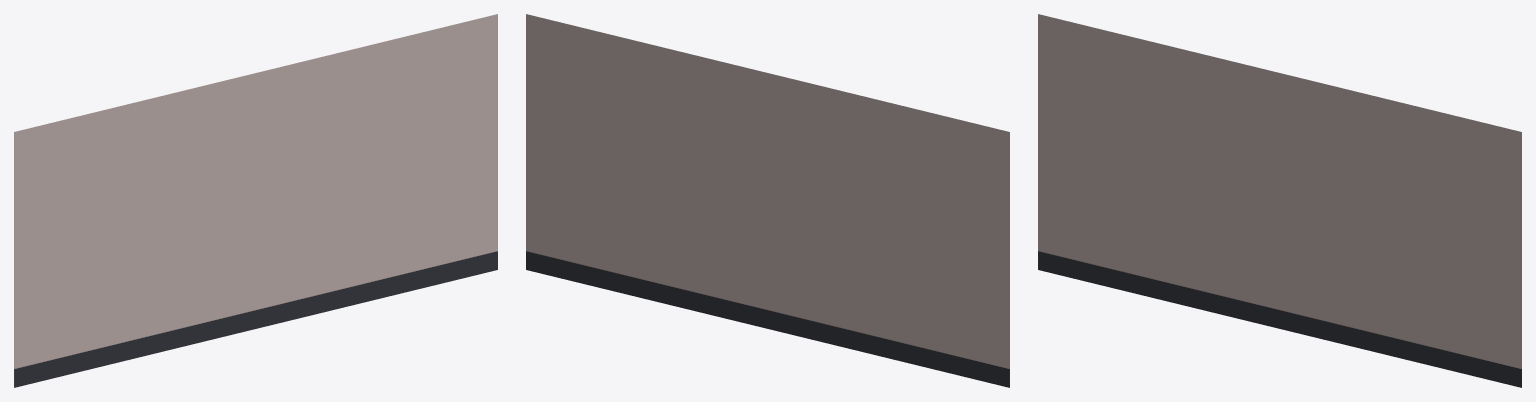
Rendered from ClassRoom_Back_Wall.fbx.
The picture shows the model from 3 angles, left to right: view 1: azimuth 30°, elevation 25°; view 2: azimuth 150°, elevation 25°; view 3: azimuth 330°, elevation 25°; orthographic projection.
Parts seen in each view (by area): view 1: Back_Wall; view 2: Back_Wall; view 3: Back_Wall.
Boxes of the visible parts, x1=… form: Back_Wall: x1=14, y1=14, x2=497, y2=387; Back_Wall: x1=526, y1=14, x2=1009, y2=387; Back_Wall: x1=1038, y1=14, x2=1521, y2=387.
Bounding box in the file's own units: 447 × 226 × 0.
Materials: 1 (1 with a texture image).
